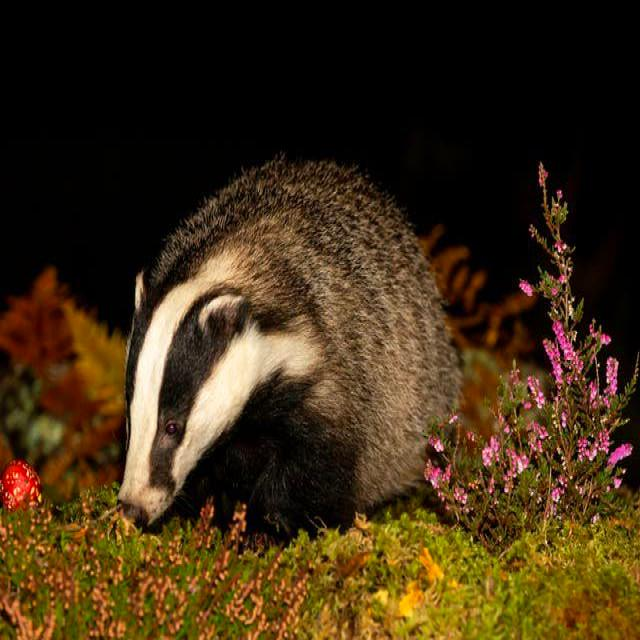badger: (119, 153, 462, 533)
